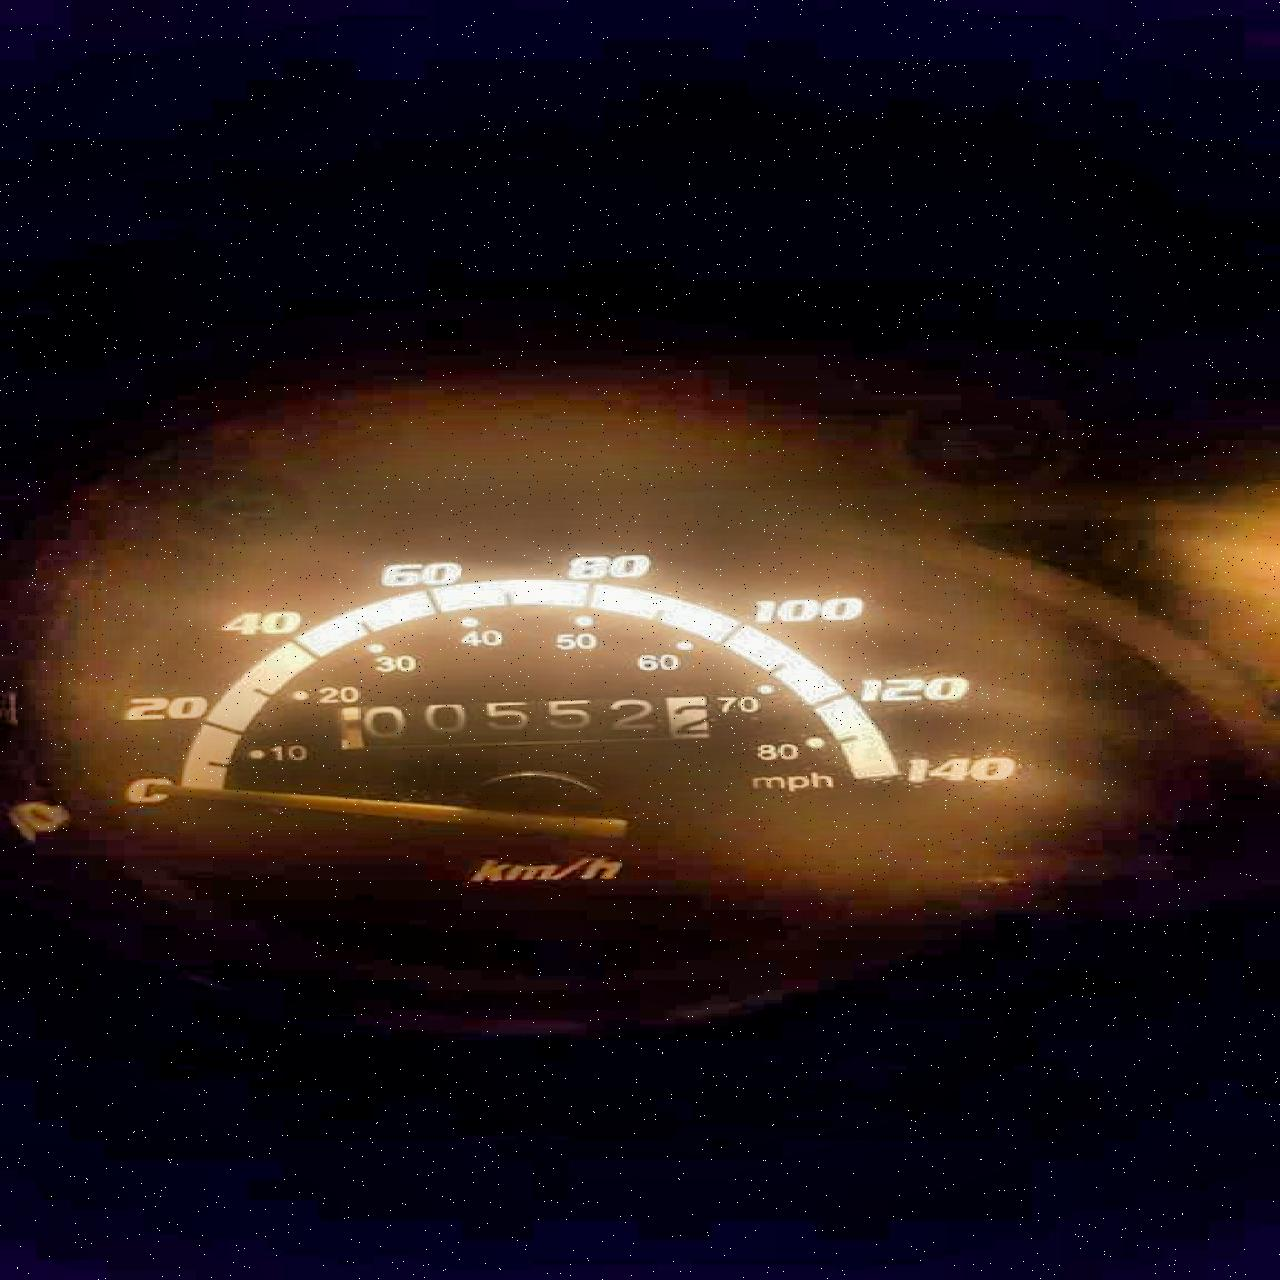0: (360, 702, 409, 742), (421, 699, 467, 735)
2: (606, 697, 655, 733), (669, 701, 709, 740)
5: (545, 695, 593, 731), (481, 696, 531, 730)
odometer: (355, 693, 720, 748)
